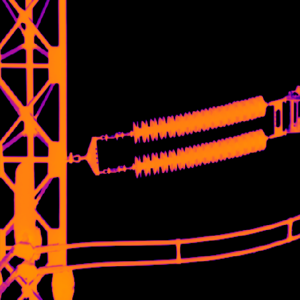insulator: (130, 93, 267, 176)
